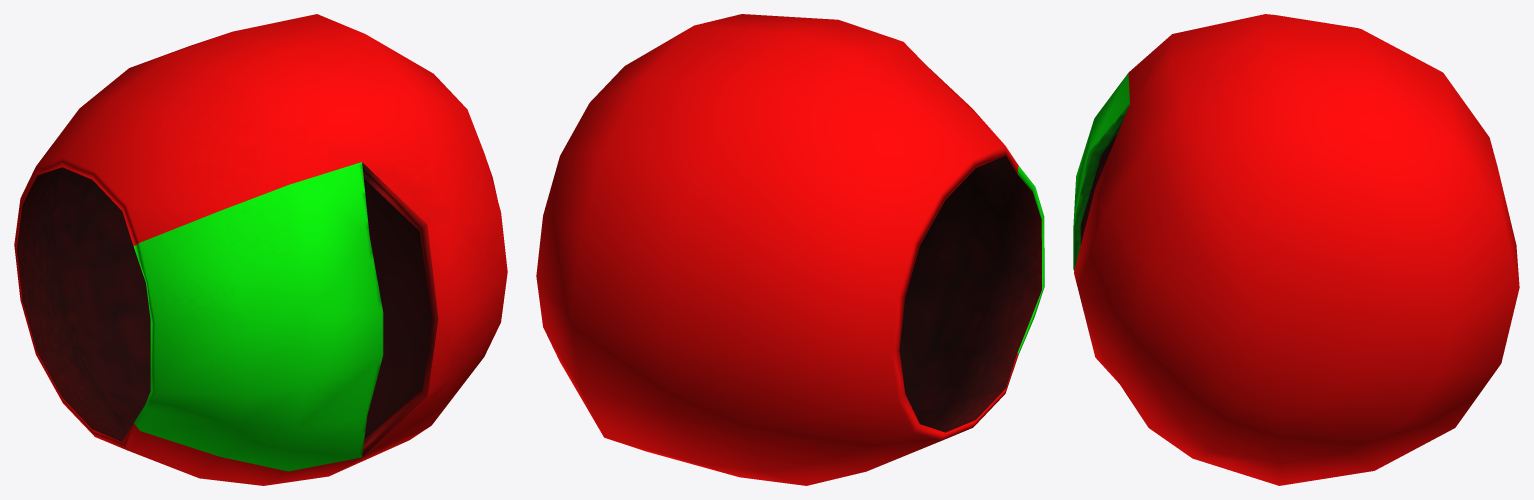
File: ChibiHat_Ninja.fbx
The picture shows the model from 3 angles, left to right: view 1: azimuth 30°, elevation 25°; view 2: azimuth 150°, elevation 25°; view 3: azimuth 270°, elevation 25°; orthographic projection. The views are drawn at different scales.
Parts seen in each view (by area): view 1: Cylinder; view 2: Cylinder; view 3: Cylinder.
Part boxes in pixels (<box>): Cylinder: <box>14,14,507,485</box>; Cylinder: <box>536,14,1044,485</box>; Cylinder: <box>1073,14,1519,485</box>.
Size of the model in its own units: 1.96 by 2.02 by 1.98.
